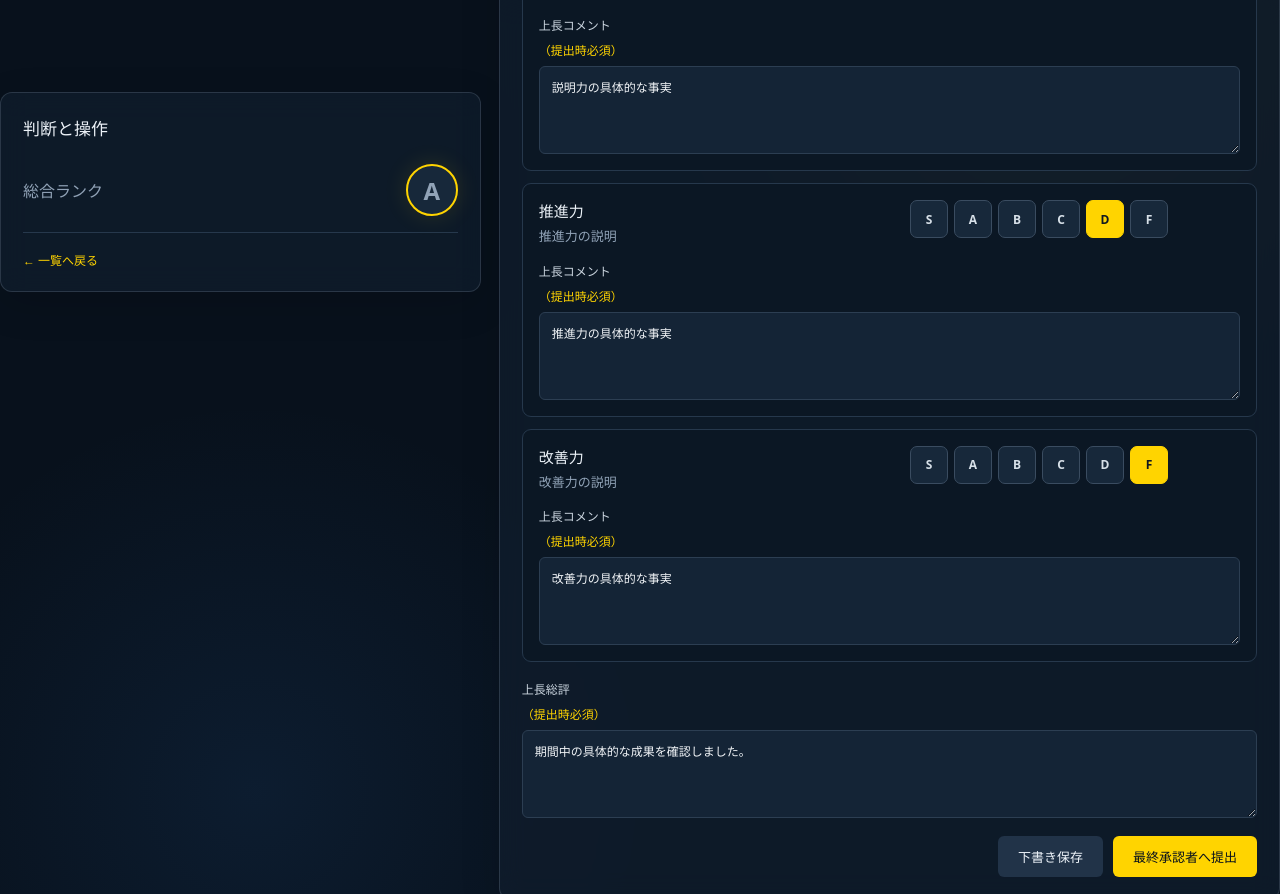
Test: 評価承認画面 › 409競合の詳細を表示し古いversionで成功扱いにしない
(page scrolled)
Click the button "下書き保存". click: x=1050, y=857
box: [998,836,1103,877]
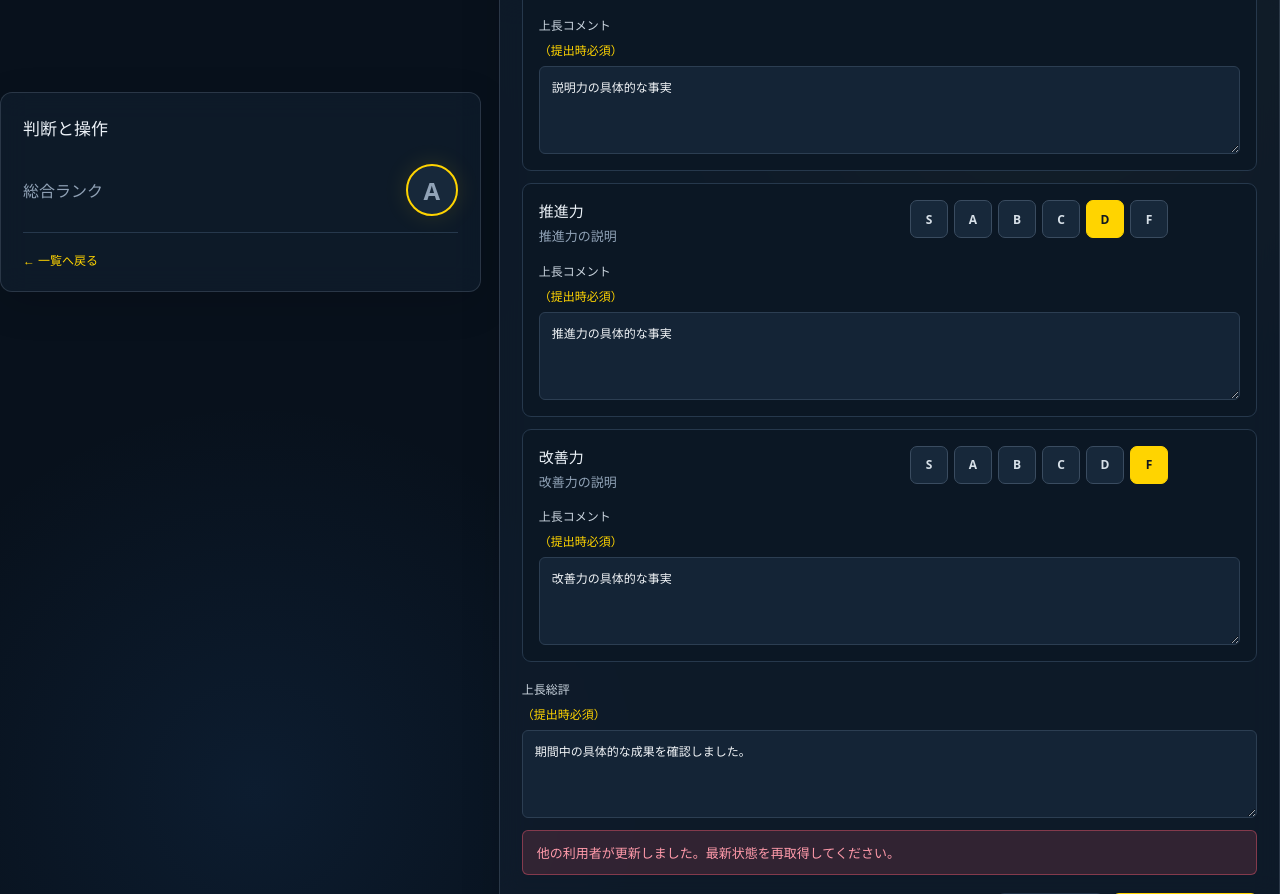
expect the message shows "最新状態を再取得してください": met, box [537,844,900,862]
